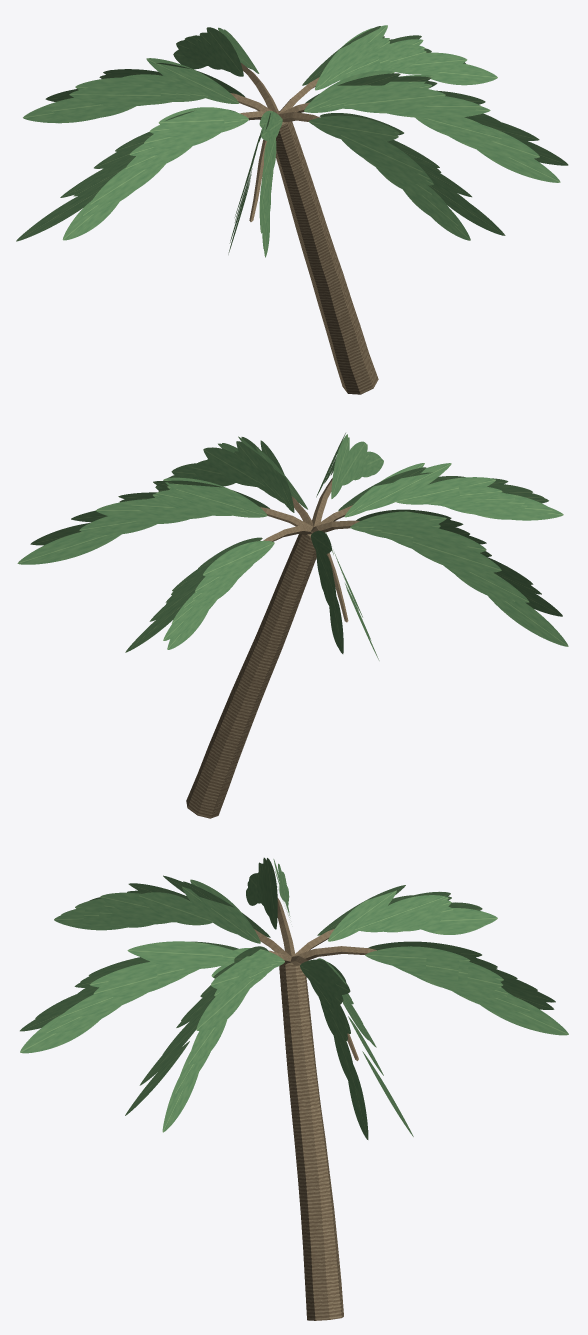
File: 야자수_01.fbx
3 views of the same model, one above another, from view 1: azimuth 30°, elevation 25°; view 2: azimuth 150°, elevation 25°; view 3: azimuth 270°, elevation 25° (orthographic). The views are drawn at different scales.
Visible parts, largest first — view 1: 야자수_01; view 2: 야자수_01; view 3: 야자수_01.
Part boxes in pixels (x1,y1,x2,y2): 야자수_01: (16,25,568,394); 야자수_01: (17,433,568,818); 야자수_01: (20,857,568,1320).
Bounding box in the file's own units: 11262 × 7410 × 10120.
